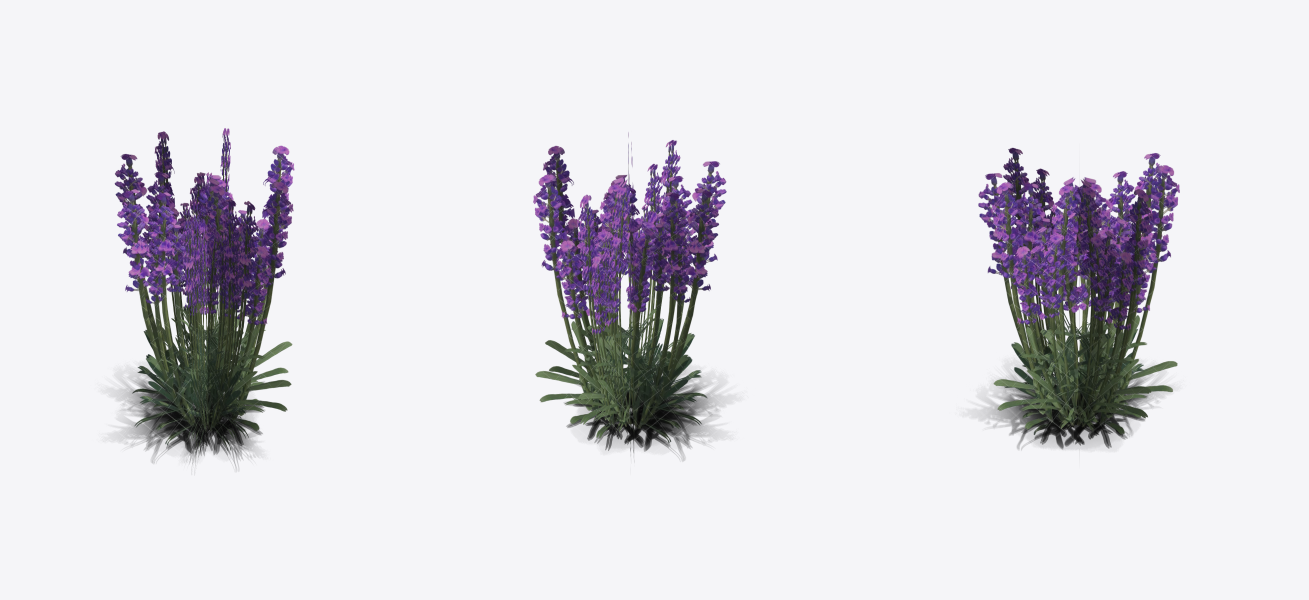
File: lavender.glb
3 views of the same model, side by side, from view 1: azimuth 30°, elevation 25°; view 2: azimuth 150°, elevation 25°; view 3: azimuth 270°, elevation 25° (orthographic).
Visible parts, largest first — view 1: Plane.003; view 2: Plane.003; view 3: Plane.003.
Boxes of the visible parts, bbox=[...] form: Plane.003: bbox=[114, 128, 294, 465]; Plane.003: bbox=[533, 132, 726, 460]; Plane.003: bbox=[978, 148, 1179, 449].
Bounding box in the file's own units: 2 × 2 × 2.
1 material, 1 textured.
